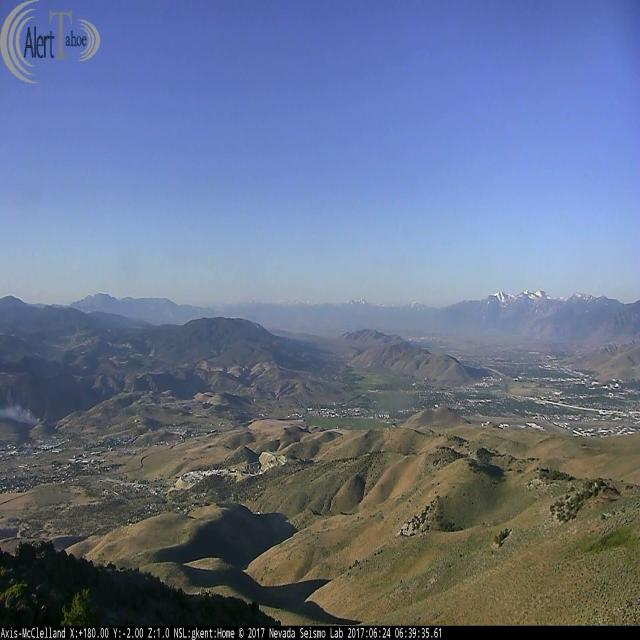smoke: (0, 398, 40, 428)
